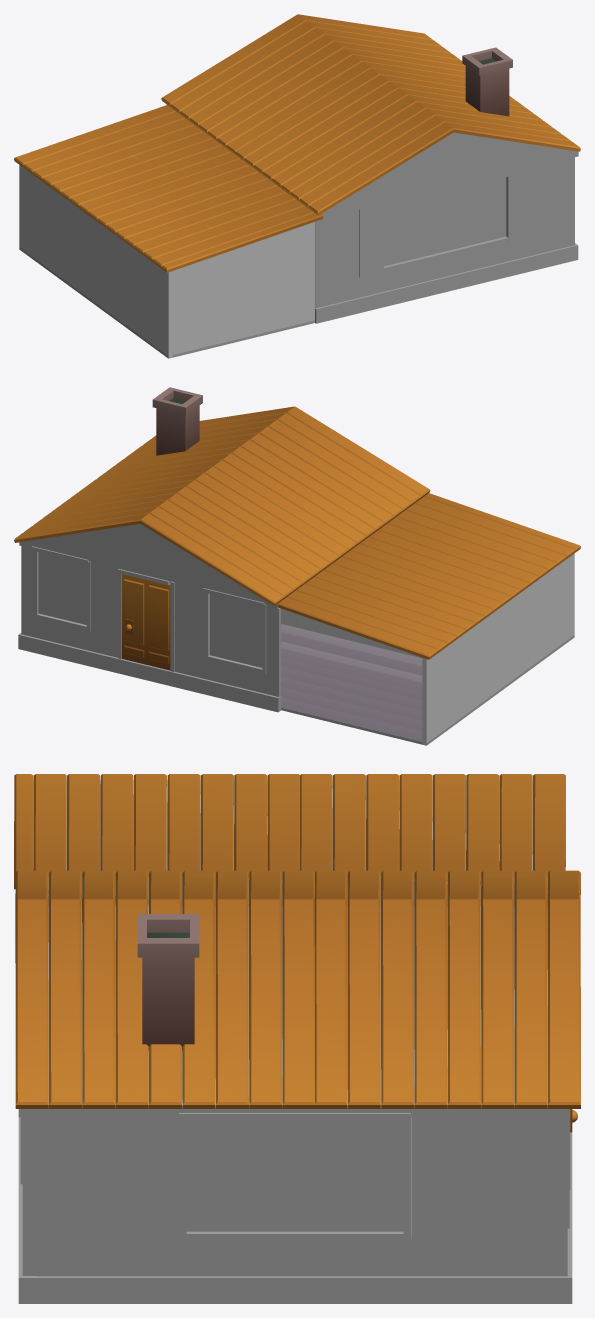
Rendered from House_1.fbx.
The picture shows the model from 3 angles, top to bottom: view 1: azimuth 30°, elevation 25°; view 2: azimuth 150°, elevation 25°; view 3: azimuth 270°, elevation 25°; orthographic projection. The views are drawn at different scales.
Parts seen in each view (by area): view 1: Roof_H_7, Roof_H_9, House_1_Base, Garage_base1, Garage_base5, House_7_Gloss, House_1_Base9; view 2: Roof_H_7, Roof_H_9, House_1_Base, Garage_base1, Garage_base4, House_7_Gloss, Dore_5, House_1_Base9; view 3: Roof_H_7, House_1_Base, Roof_H_9, House_7_Gloss, Garage_base1.
Boxes of the visible parts, x1=… form: Roof_H_7: x1=161, y1=14, x2=580, y2=218; Roof_H_9: x1=14, y1=105, x2=323, y2=272; House_1_Base: x1=315, y1=157, x2=578, y2=323; Garage_base1: x1=19, y1=165, x2=315, y2=358; Garage_base5: x1=172, y1=233, x2=315, y2=354; House_7_Gloss: x1=384, y1=177, x2=506, y2=266; House_1_Base9: x1=19, y1=247, x2=314, y2=358; Roof_H_7: x1=14, y1=387, x2=430, y2=608; Roof_H_9: x1=277, y1=493, x2=580, y2=659; House_1_Base: x1=18, y1=546, x2=281, y2=712; Garage_base1: x1=281, y1=553, x2=574, y2=745; Garage_base4: x1=281, y1=624, x2=422, y2=741; House_7_Gloss: x1=38, y1=552, x2=262, y2=667; Dore_5: x1=122, y1=574, x2=170, y2=670; House_1_Base9: x1=281, y1=635, x2=574, y2=745; Roof_H_7: x1=15, y1=870, x2=580, y2=1120; House_1_Base: x1=18, y1=1109, x2=572, y2=1303; Roof_H_9: x1=14, y1=774, x2=565, y2=889; House_7_Gloss: x1=186, y1=1120, x2=403, y2=1231; Garage_base1: x1=33, y1=779, x2=532, y2=870.
Size of the model in its own units: 1545 by 654 by 1013.
